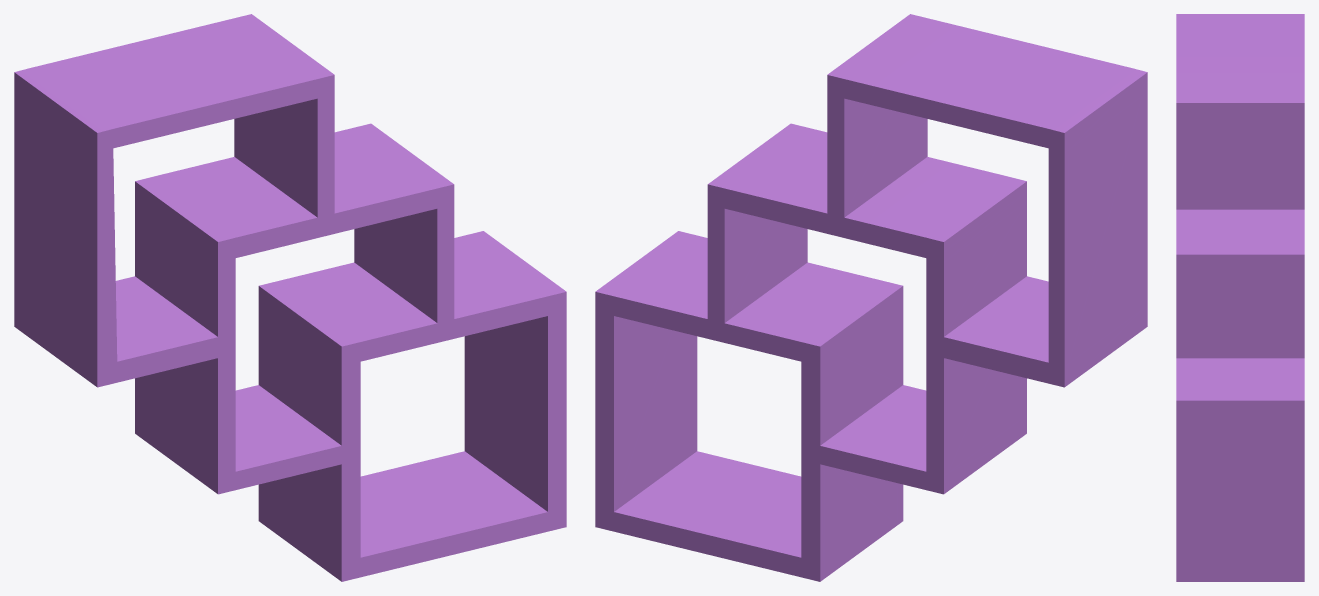
File: shelves1.fbx
The picture shows the model from 3 angles, left to right: view 1: azimuth 30°, elevation 25°; view 2: azimuth 150°, elevation 25°; view 3: azimuth 270°, elevation 25°; orthographic projection. The views are drawn at different scales.
Parts seen in each view (by area): view 1: shelves; view 2: shelves; view 3: shelves.
Boxes of the visible parts, x1,y1,x2,y2 form: shelves: [14, 14, 566, 581]; shelves: [595, 14, 1147, 581]; shelves: [1176, 14, 1304, 581].
Bounding box in the file's own units: 116 × 121 × 35.73.
